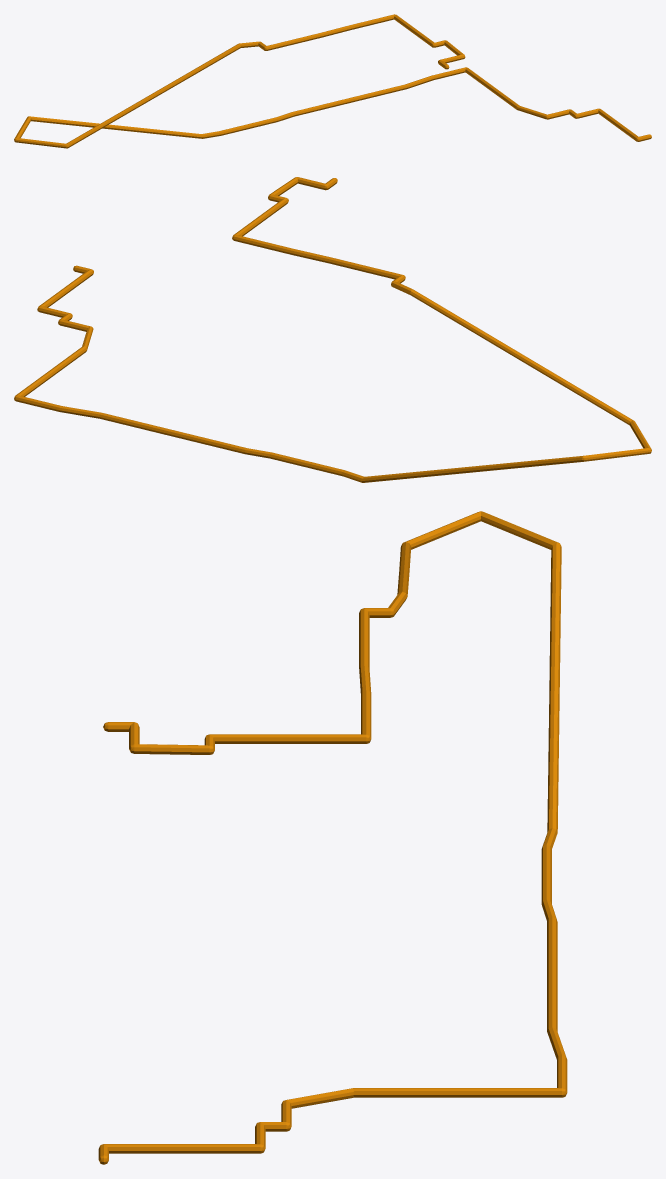
The picture shows the model from 3 angles, top to bottom: view 1: azimuth 30°, elevation 25°; view 2: azimuth 150°, elevation 25°; view 3: azimuth 270°, elevation 25°; orthographic projection. The views are drawn at different scales.
Size of the model in its own units: 2406 by 520 by 899.
